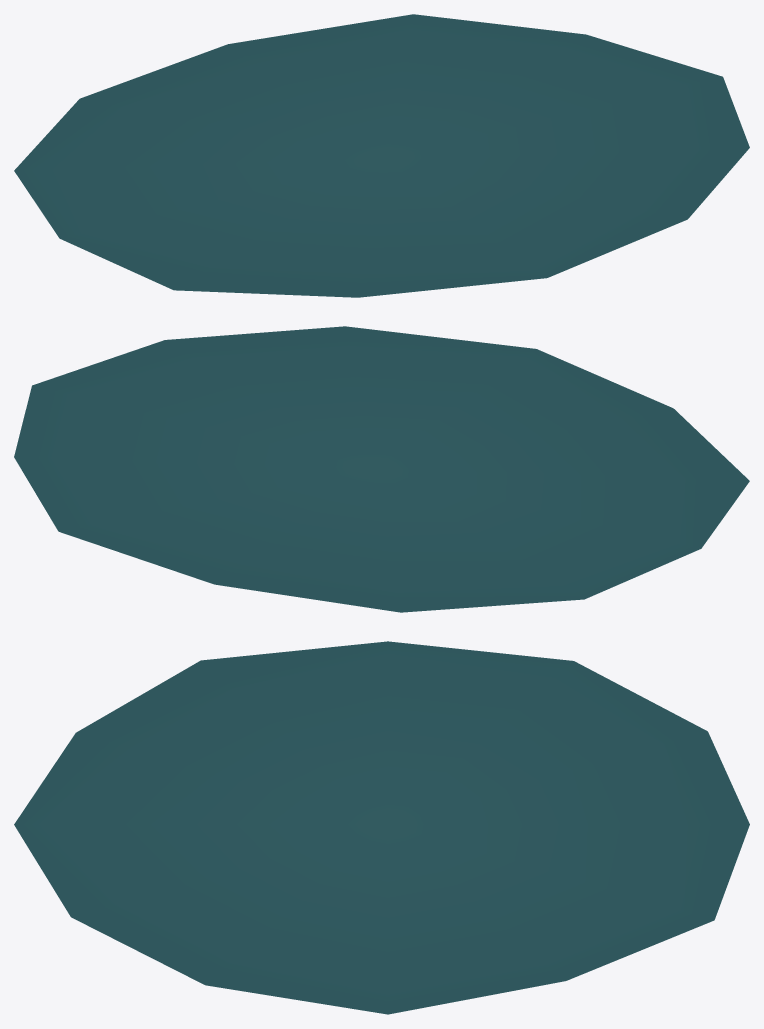
Rendered from water-plane.mobile.glb.
3 views of the same model, one above another, from view 1: azimuth 30°, elevation 25°; view 2: azimuth 150°, elevation 25°; view 3: azimuth 270°, elevation 25° (orthographic). The views are drawn at different scales.
Parts seen in each view (by area): view 1: SA_G07_MESH_60; view 2: SA_G07_MESH_60; view 3: SA_G07_MESH_60.
Part boxes in pixels (left/top/right/bottom): SA_G07_MESH_60: left=14, top=14, right=749, bottom=297; SA_G07_MESH_60: left=14, top=326, right=749, bottom=612; SA_G07_MESH_60: left=14, top=641, right=749, bottom=1014.
Bounding box in the file's own units: 12.09 × 0.013 × 10.08.
